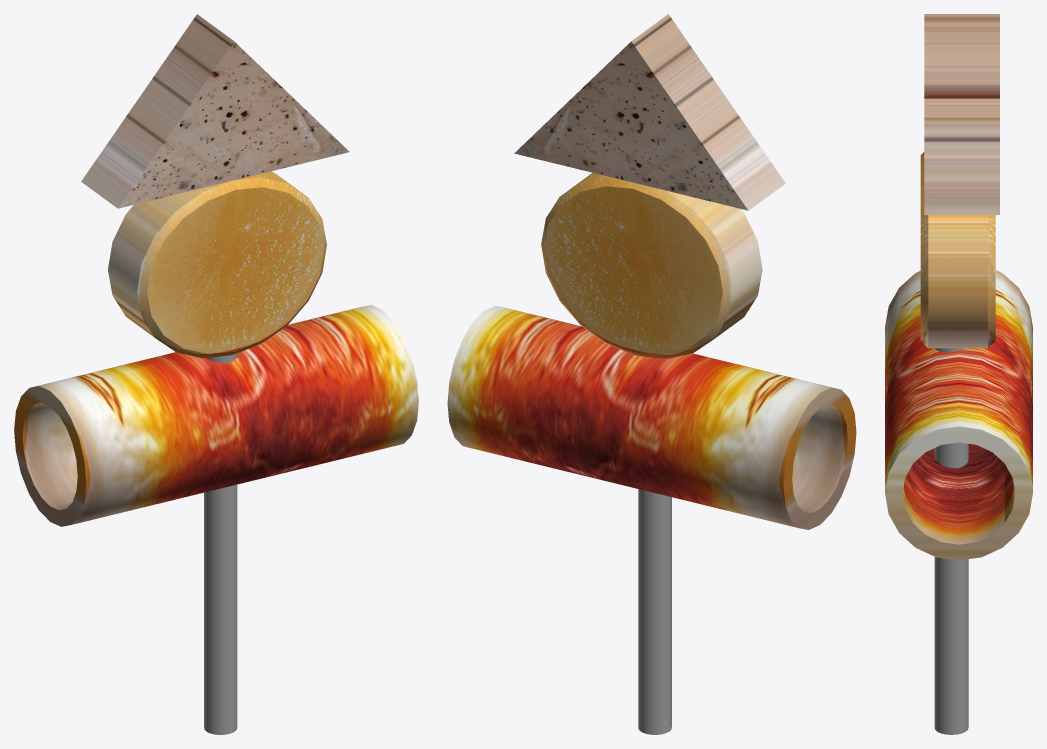
The model's file is odden.fbx.
The picture shows the model from 3 angles, left to right: view 1: azimuth 30°, elevation 25°; view 2: azimuth 150°, elevation 25°; view 3: azimuth 270°, elevation 25°; orthographic projection. The views are drawn at different scales.
Visible parts, largest first — view 1: polySurface2; view 2: polySurface2; view 3: polySurface2.
Boxes of the visible parts, box(x1,y1,x2,y2) form: polySurface2: box(14, 14, 418, 734); polySurface2: box(447, 14, 856, 734); polySurface2: box(885, 14, 1032, 734).
Size of the model in its own units: 3.77 by 7.55 by 1.42.
Materials: 2 (1 with a texture image).
